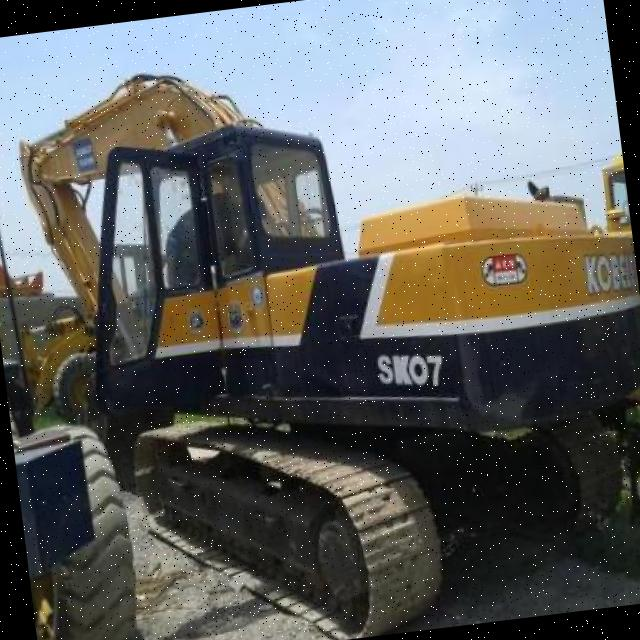Excavator: (8, 15, 640, 640)
